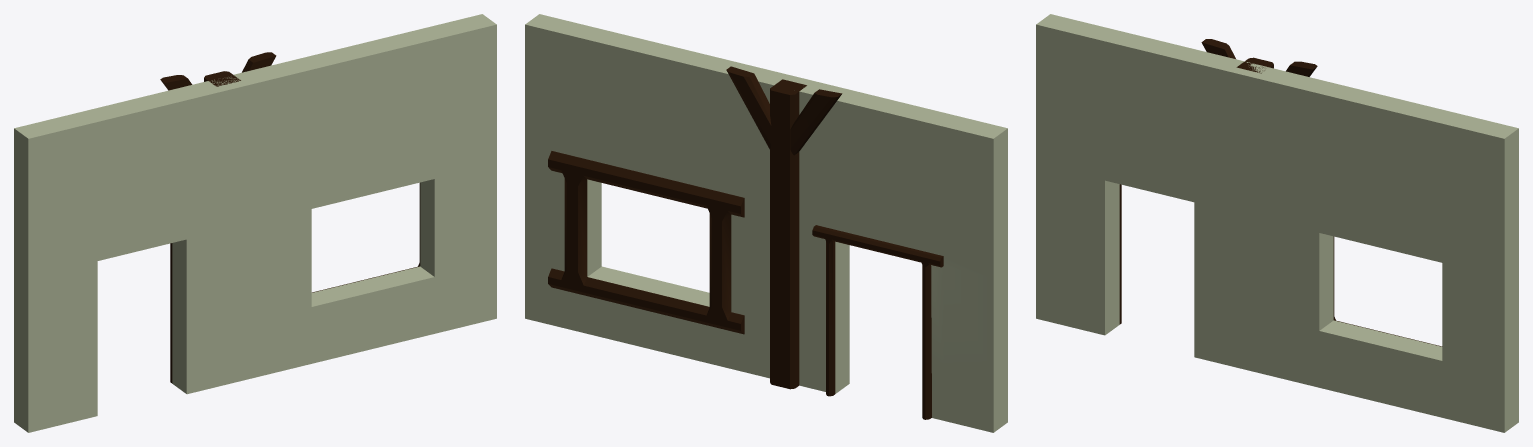
File: Wall_Long01_FBX.fbx
3 renders of one model, left to right at view 1: azimuth 30°, elevation 25°; view 2: azimuth 150°, elevation 25°; view 3: azimuth 330°, elevation 25°, orthographic.
Parts seen in each view (by area): view 1: Long wall one door one window006; view 2: Long wall one door one window006, Box150, Box152, Box173; view 3: Long wall one door one window006.
Part boxes in pixels (box(x1,y1,x2,y2)): Long wall one door one window006: box(14, 14, 496, 432); Long wall one door one window006: box(525, 14, 1007, 432); Box150: box(770, 79, 806, 389); Box152: box(726, 66, 771, 149); Box173: box(790, 89, 842, 155); Long wall one door one window006: box(1036, 14, 1518, 432).
Size of the model in its own units: 750 by 463 by 57.47.
